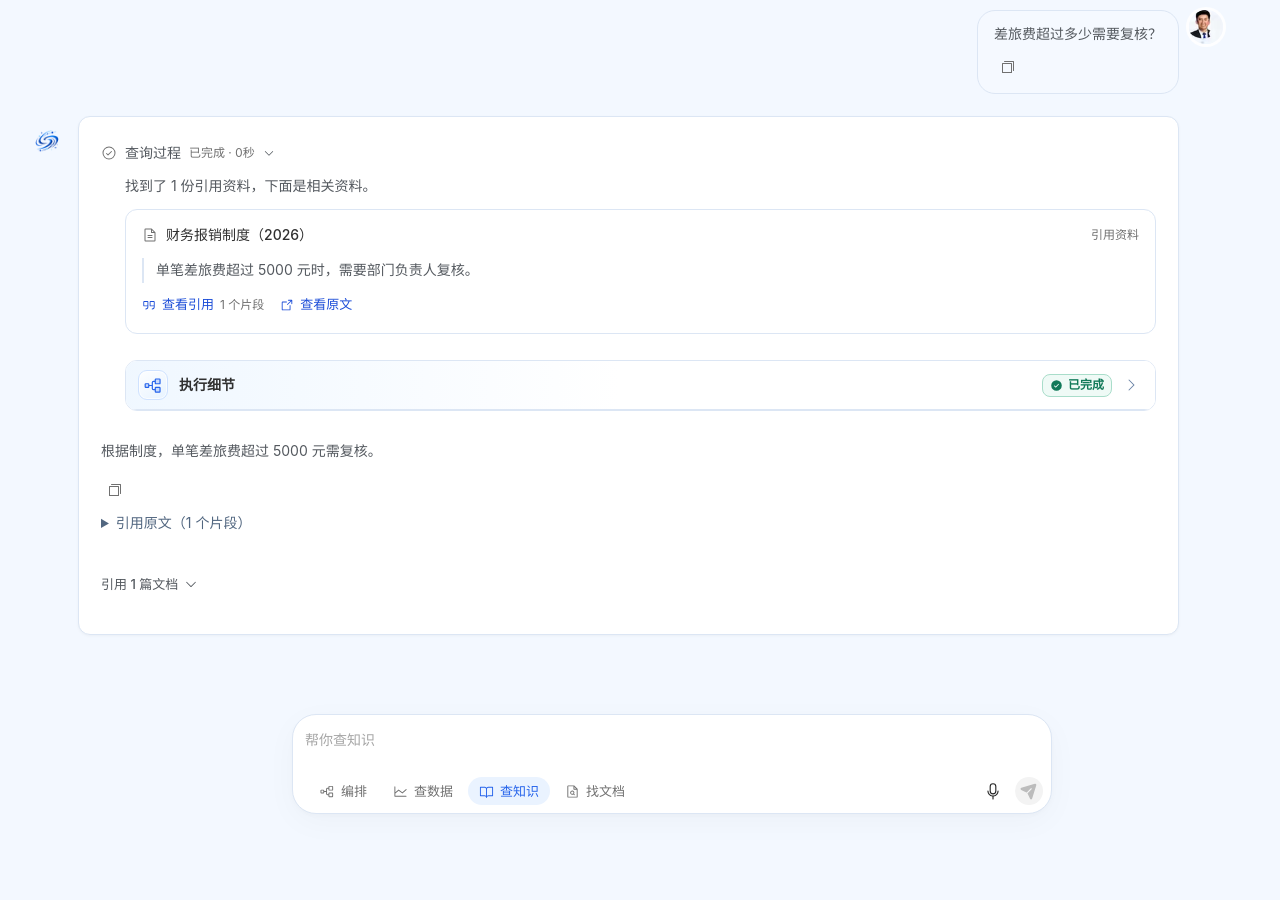
Scenario: workflow page actions › renders native knowledge activity, answer and citations in the agent card surface
Expected: the text "单笔差旅费超过 5000 元需复核" is shown, 101,442 -> 382,459
// 引用 chips 默认收合，点开后能看到引用文档
Click the button "引用 1 篇文档" at point(150, 584), box 101,571 -> 198,598
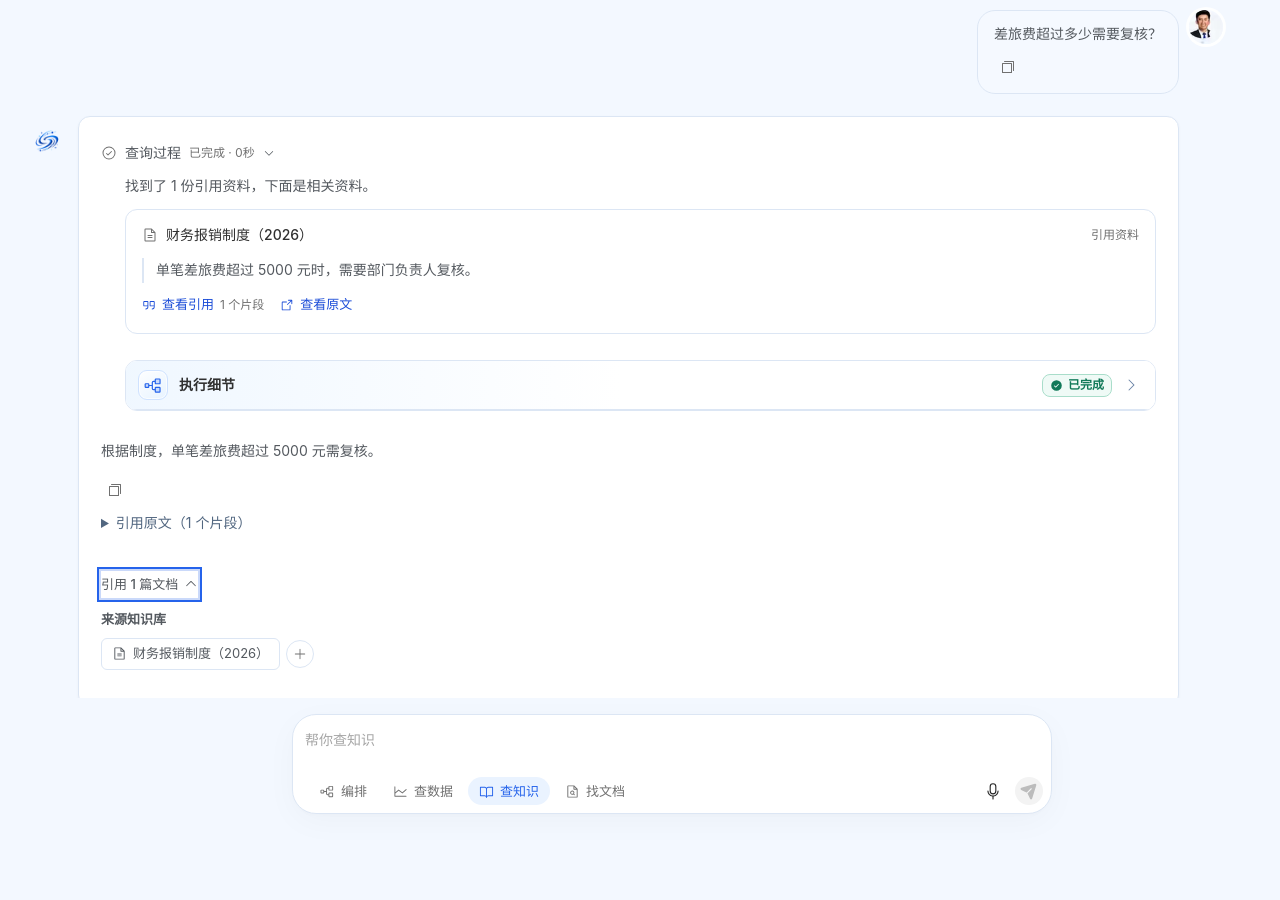
Expected: the text "财务报销制度（2026）" is shown, 133,644 -> 269,664
